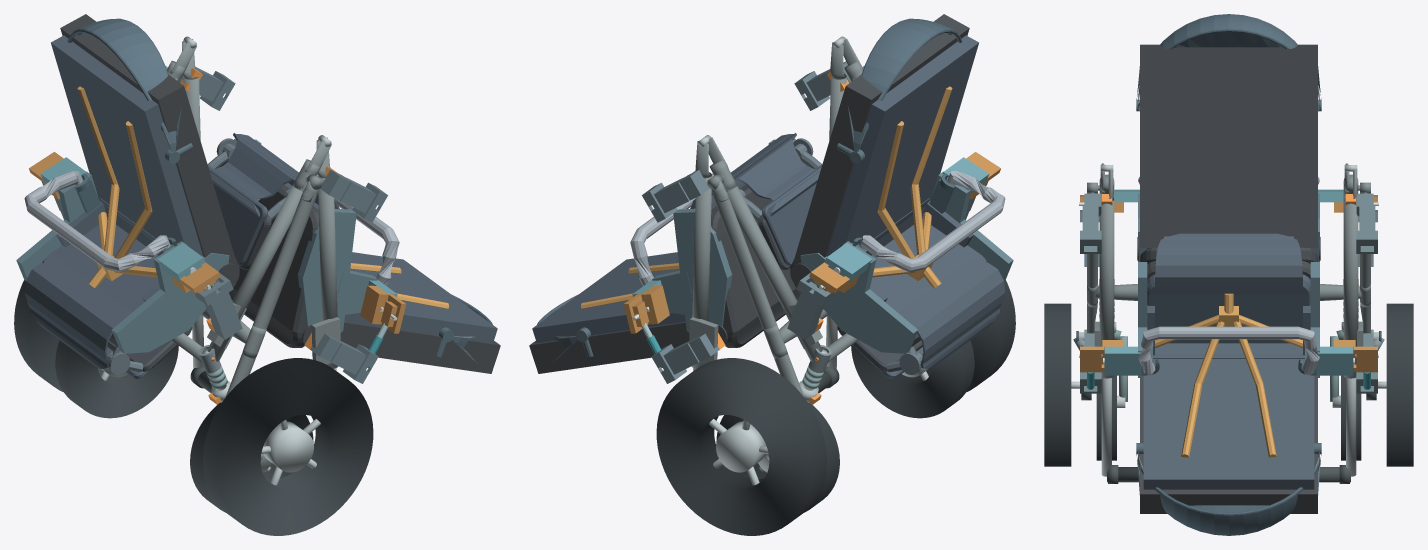
Rendered from D02_w650_state3_wheel_L.glb.
3 renders of one model, left to right at view 1: azimuth 30°, elevation 25°; view 2: azimuth 150°, elevation 25°; view 3: azimuth 270°, elevation 25°, orthographic. The views are drawn at different scales.
Visible parts, largest first — view 1: RL_tire.008, D02_Front_Backrest, D02_Rear_Backrest, D02_Front, D02_Front_Shell, D02_Front_KneeCover, FR_tire.008, D02_Rear, D02_Rear_Shell, D02_Rear_KneeCover, D02_Front_FullGuard, D02_Rear_Legrest (+18 smaller); view 2: RR_tire.008, D02_Front_Backrest, D02_Rear_Backrest, D02_Front, D02_Front_Shell, D02_Front_KneeCover, FL_tire.008, D02_Rear, D02_Rear_Shell, D02_Rear_KneeCover, D02_Front_FullGuard, D02_Rear_Legrest (+18 smaller); view 3: D02_Front_Backrest, D02_Rear_Backrest, D02_Rear_Shell, D02_Rear_KneeCover, RL_tire.008, RR_tire.008, D02_Rear, D02_Rear_FullGuard, D02_Rear_Canopy, D02_Front_Canopy, D02_Rear_ShoulderStraps, main_upper_1.009 (+20 smaller).
Part boxes in pixels (x1,y1,x2,y2): RL_tire.008: (203, 358, 373, 535); D02_Front_Backrest: (51, 14, 237, 266); D02_Rear_Backrest: (340, 252, 500, 373); D02_Front: (16, 157, 229, 353); D02_Front_Shell: (42, 173, 239, 346); D02_Front_KneeCover: (24, 262, 121, 368); FR_tire.008: (55, 340, 178, 418); D02_Rear: (234, 139, 397, 332); D02_Rear_Shell: (219, 160, 318, 347); D02_Rear_KneeCover: (209, 133, 339, 216); D02_Front_FullGuard: (24, 170, 170, 272); D02_Rear_Legrest: (207, 151, 286, 269); RR_tire.008: (656, 358, 826, 535); D02_Front_Backrest: (792, 14, 978, 266); D02_Rear_Backrest: (529, 252, 689, 373); D02_Front: (800, 157, 1013, 353); D02_Front_Shell: (790, 173, 987, 346); D02_Front_KneeCover: (908, 262, 1005, 368); FL_tire.008: (851, 340, 974, 418); D02_Rear: (632, 139, 795, 332); D02_Rear_Shell: (711, 160, 810, 347); D02_Rear_KneeCover: (690, 133, 820, 216); D02_Front_FullGuard: (859, 170, 1005, 272); D02_Rear_Legrest: (743, 151, 822, 269); D02_Front_Backrest: (1140, 44, 1317, 247); D02_Rear_Backrest: (1140, 343, 1317, 513); D02_Rear_Shell: (1145, 260, 1312, 374); D02_Rear_KneeCover: (1155, 233, 1302, 285); RL_tire.008: (1044, 303, 1071, 466); RR_tire.008: (1386, 303, 1413, 466); D02_Rear: (1101, 262, 1356, 377); D02_Rear_FullGuard: (1138, 326, 1319, 375); D02_Rear_Canopy: (1136, 454, 1321, 535); D02_Front_Canopy: (1136, 14, 1321, 99); D02_Rear_ShoulderStraps: (1181, 320, 1276, 457); main_upper_1.009: (1343, 198, 1358, 378).
Bounding box in the file's own units: 0.9607 × 0.993 × 0.8171.
